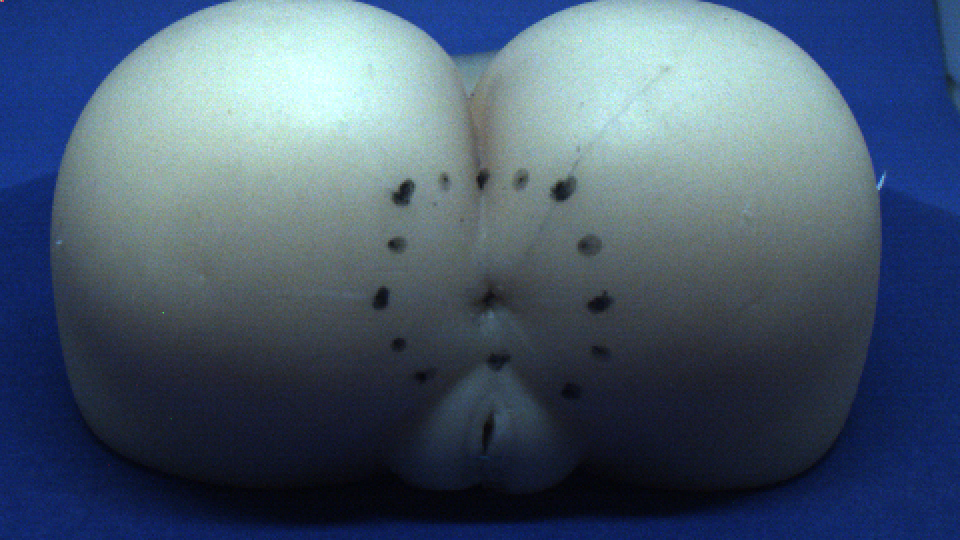asarp_marker: (389, 176, 418, 211), (574, 230, 610, 258), (584, 290, 619, 317), (549, 174, 577, 206), (384, 232, 413, 258), (588, 343, 618, 367), (481, 354, 516, 374), (510, 164, 534, 193), (558, 380, 586, 404), (371, 288, 393, 313), (433, 169, 456, 192), (413, 363, 440, 381), (474, 169, 493, 192), (390, 333, 409, 356)
